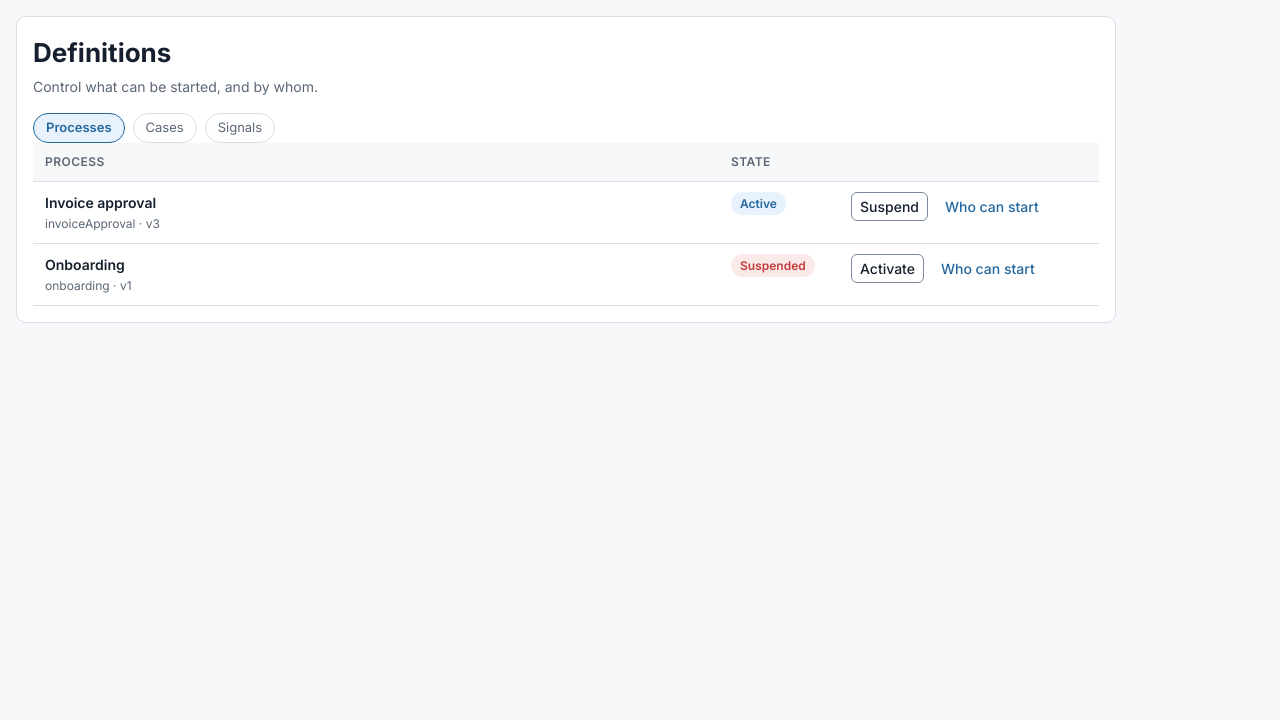
Test case: Definitions — processes › confirms before suspending, and says what happens to running instances
This screenshot has width=1280, height=720.
What coordinates should you click on to do the following:
click the button "Suspend"
I would click on:
 (890, 206)
Its box is [851,192,928,221].
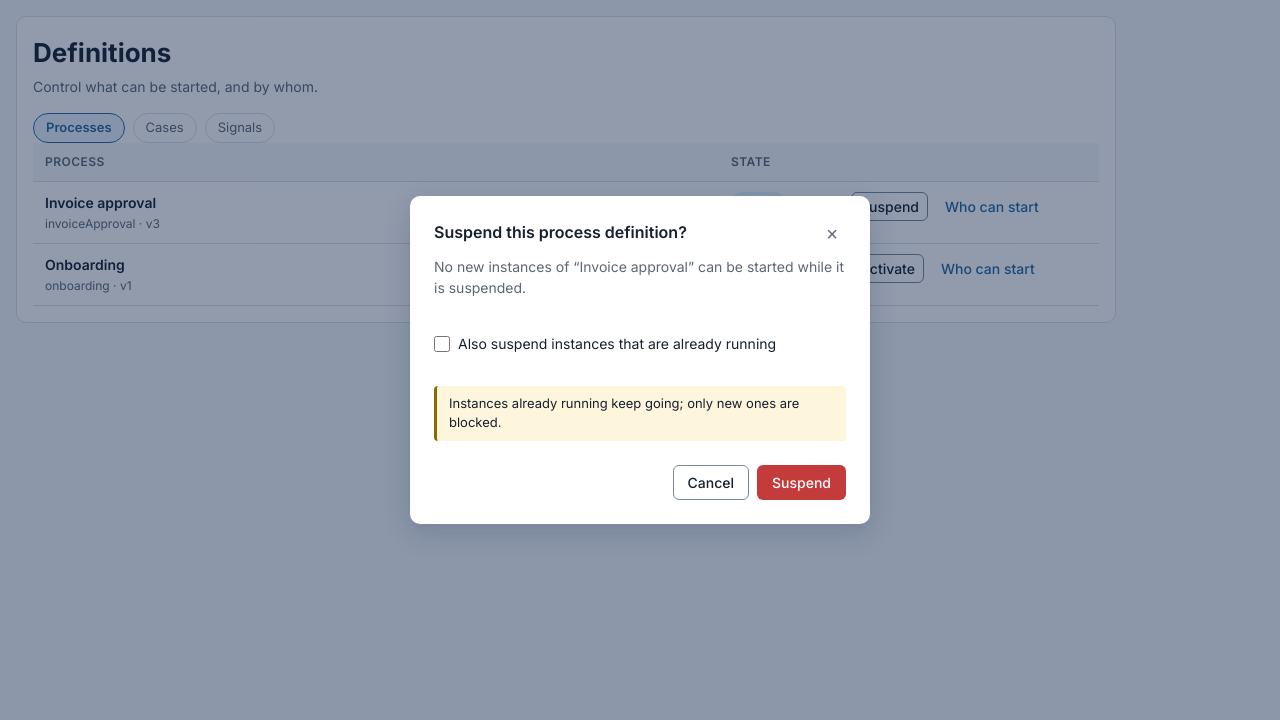
Result: the dialog shows "Invoice approval" at [434,258,844,296]
Result: the dialog shows "Instances already running keep going" at [449,395,799,430]
